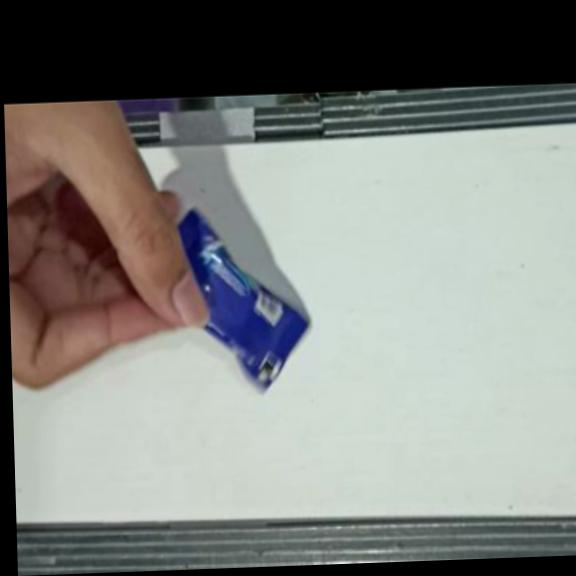Plastik: (163, 204, 311, 397)
